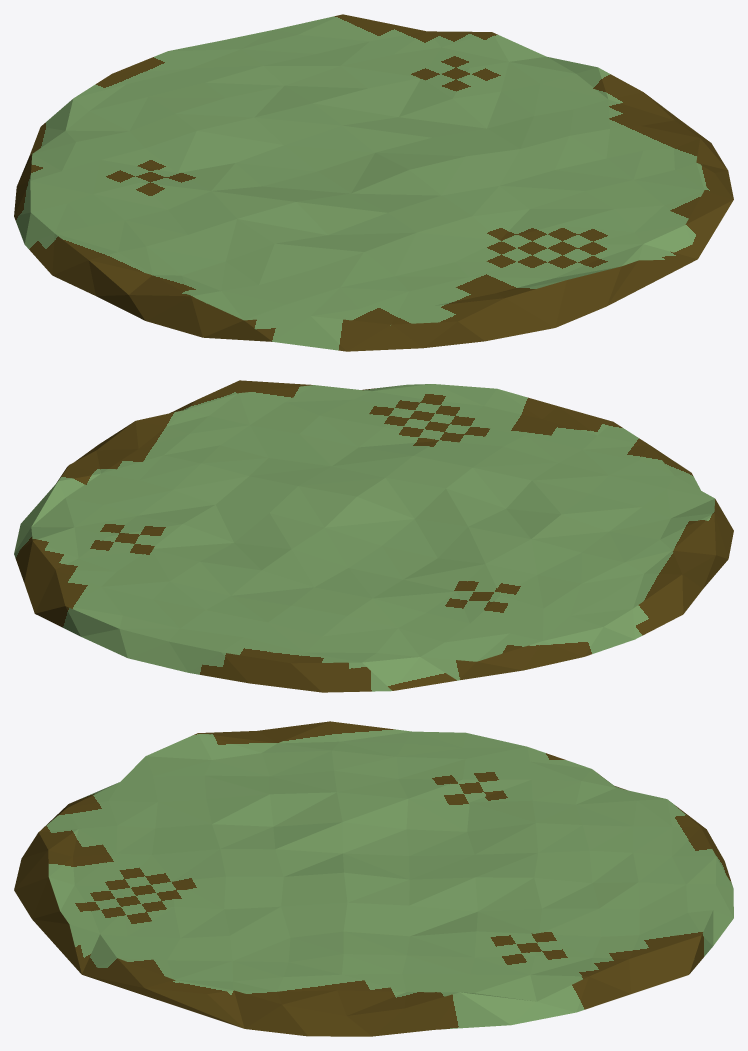
Rendered from SpawnIsland.obj.
3 views of the same model, one above another, from view 1: azimuth 30°, elevation 25°; view 2: azimuth 150°, elevation 25°; view 3: azimuth 270°, elevation 25° (orthographic). The views are drawn at different scales.
Parts seen in each view (by area): view 1: Spawn Island; view 2: Spawn Island; view 3: Spawn Island.
Boxes of the visible parts, x1=… form: Spawn Island: x1=14, y1=14, x2=733, y2=351; Spawn Island: x1=14, y1=380, x2=733, y2=692; Spawn Island: x1=14, y1=721, x2=733, y2=1036.
Bounding box in the file's own units: 2.11 × 0.0925 × 2.13.
Materials: 1 (1 with a texture image).
